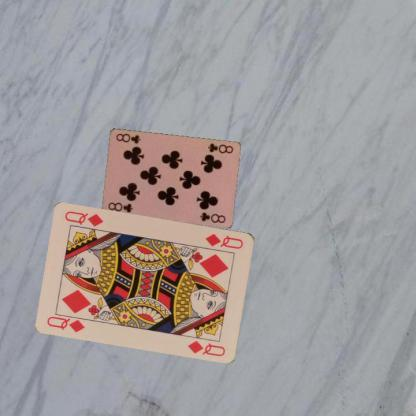8c: (105, 200, 134, 214), (205, 141, 234, 155)
Qd: (45, 310, 90, 334), (203, 230, 245, 249)
